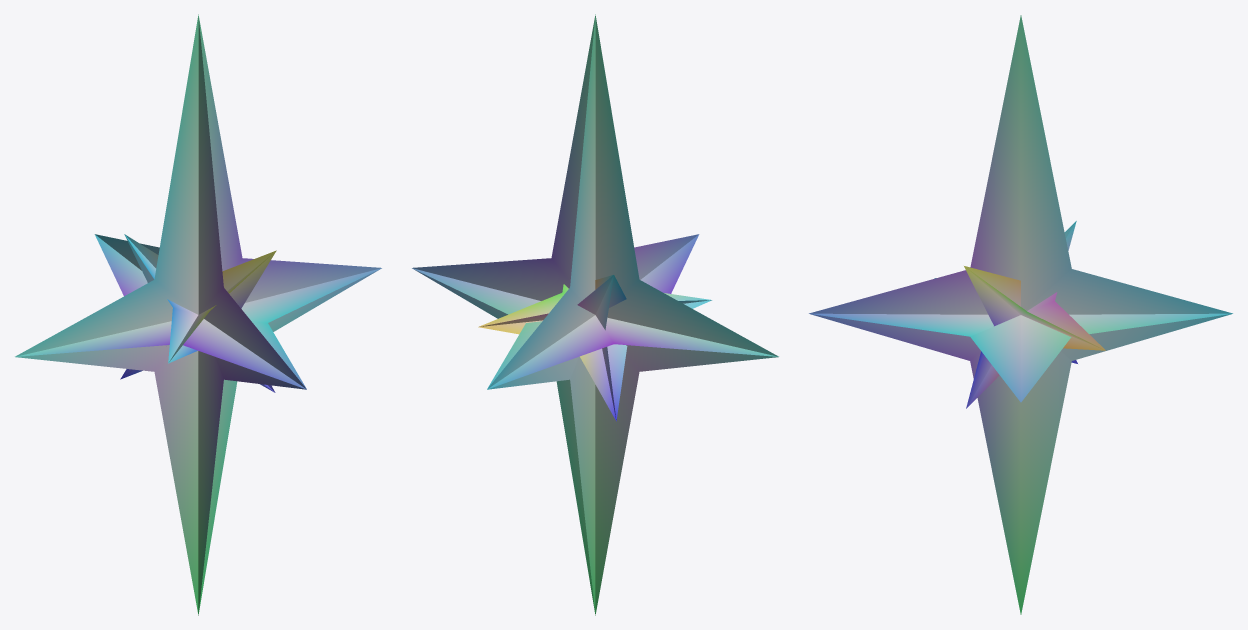
File: space-stars-star_v9.glb
3 views of the same model, side by side, from view 1: azimuth 30°, elevation 25°; view 2: azimuth 150°, elevation 25°; view 3: azimuth 270°, elevation 25° (orthographic).
Visible parts, largest first — view 1: Star_v9; view 2: Star_v9; view 3: Star_v9.
Boxes of the visible parts, <box> form: Star_v9: <box>15,14,381,615</box>; Star_v9: <box>412,14,778,615</box>; Star_v9: <box>809,15,1232,614</box>.
Bounding box in the file's own units: 0.3203 × 0.5 × 0.3203.
